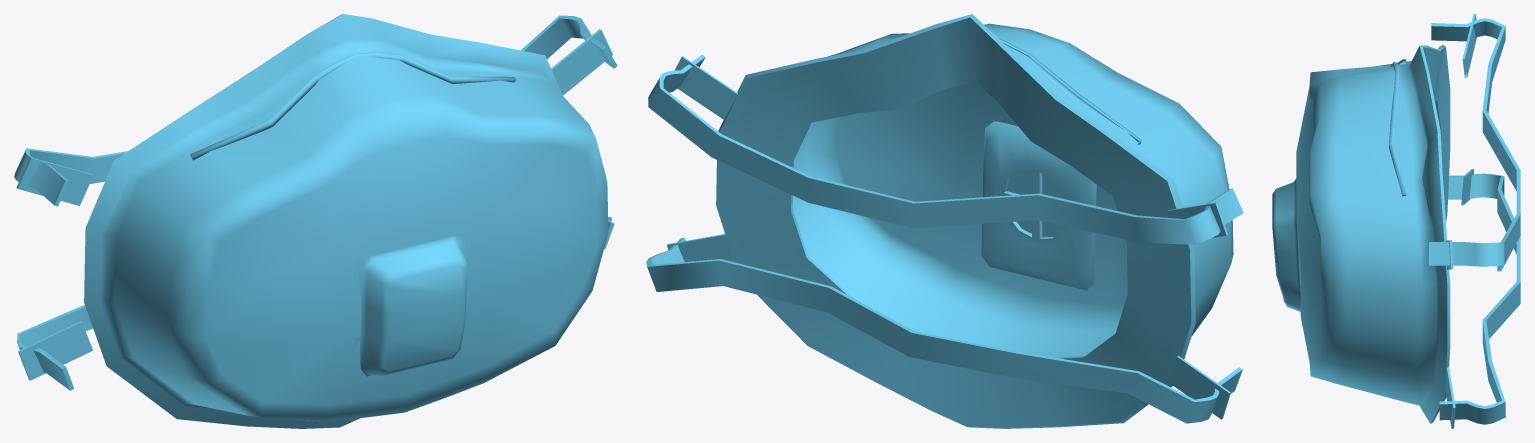
The model's file is maskN100.FBX.
The picture shows the model from 3 angles, left to right: view 1: azimuth 30°, elevation 25°; view 2: azimuth 150°, elevation 25°; view 3: azimuth 270°, elevation 25°; orthographic projection. The views are drawn at different scales.
Parts seen in each view (by area): view 1: N100mask, n100clip002, nosePincher001; view 2: N100mask, n100clip002, N100innerFilterLiner, nosePincher001; view 3: N100mask, n100clip002, nosePincher001.
Boxes of the visible parts, x1=… form: N100mask: x1=14, y1=14, x2=617, y2=428; n100clip002: x1=16, y1=29, x2=612, y2=380; nosePincher001: x1=190, y1=52, x2=516, y2=160; N100mask: x1=646, y1=14, x2=1243, y2=428; n100clip002: x1=667, y1=56, x2=1230, y2=419; N100innerFilterLiner: x1=1006, y1=170, x2=1065, y2=236; nosePincher001: x1=999, y1=38, x2=1141, y2=144; N100mask: x1=1272, y1=18, x2=1520, y2=424; n100clip002: x1=1445, y1=14, x2=1476, y2=428; nosePincher001: x1=1388, y1=59, x2=1406, y2=196.
Bounding box in the file's own units: 14.51 × 9.91 × 6.35.
